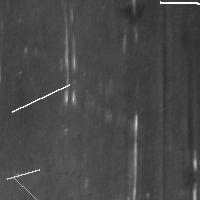scratches: (160, 5, 195, 196), (7, 79, 74, 116), (9, 173, 89, 200), (59, 8, 81, 105), (127, 108, 144, 200), (2, 164, 44, 183), (155, 0, 200, 9)
